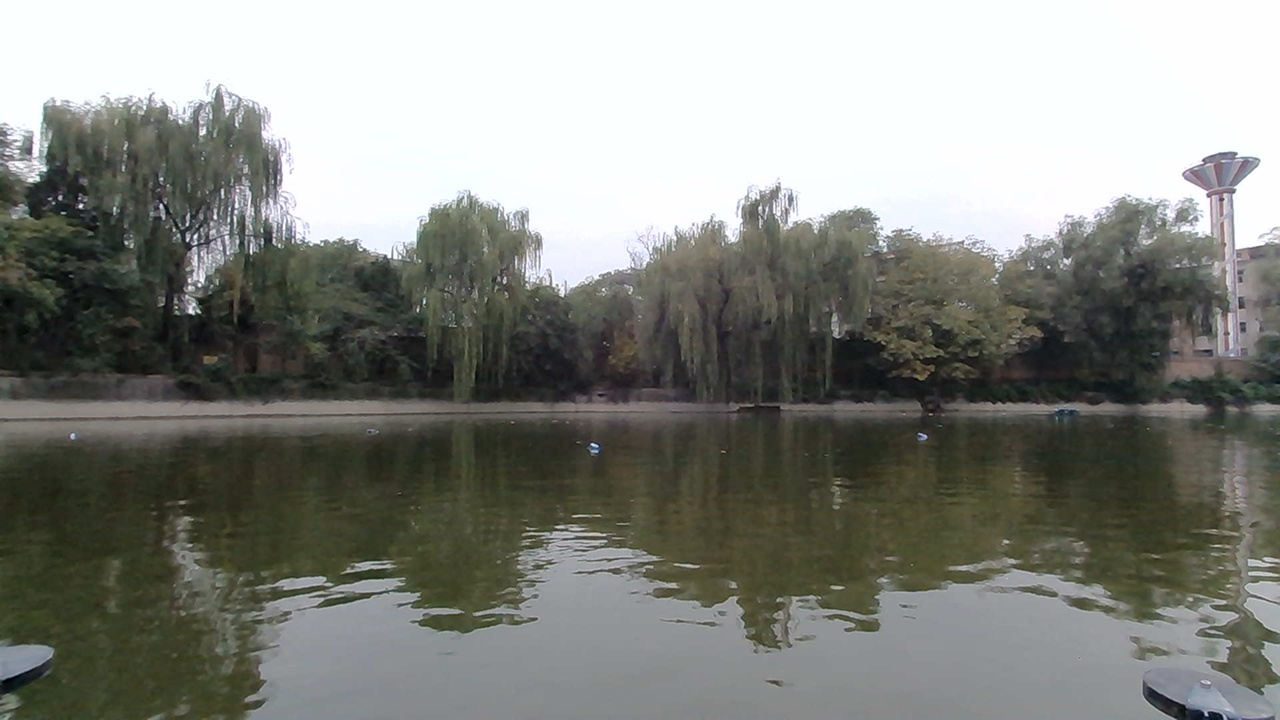bottle: (351, 417, 387, 448), (576, 433, 615, 461), (57, 422, 98, 445), (906, 425, 937, 446)
